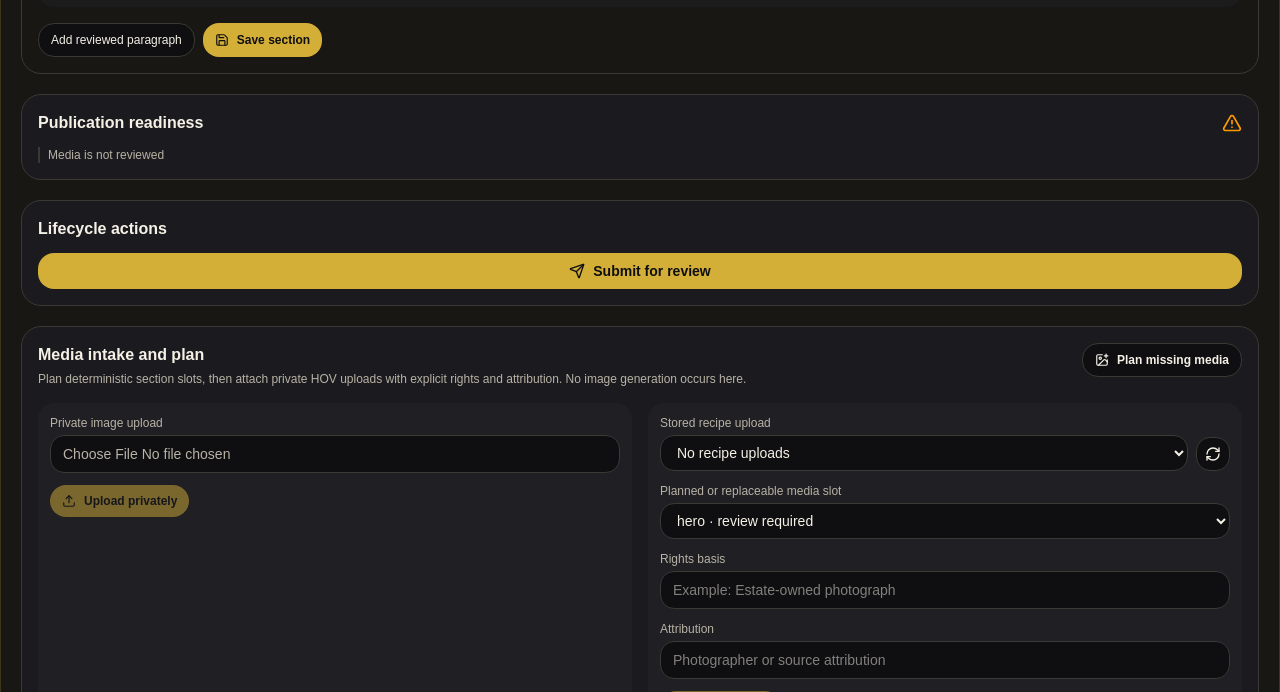
Scenario: recipe guidance UI › plans missing media slots from the admin workspace
(page scrolled)
Click the button "Plan missing media".
click(1162, 360)  # box [1082,343,1242,377]
(page scrolled)
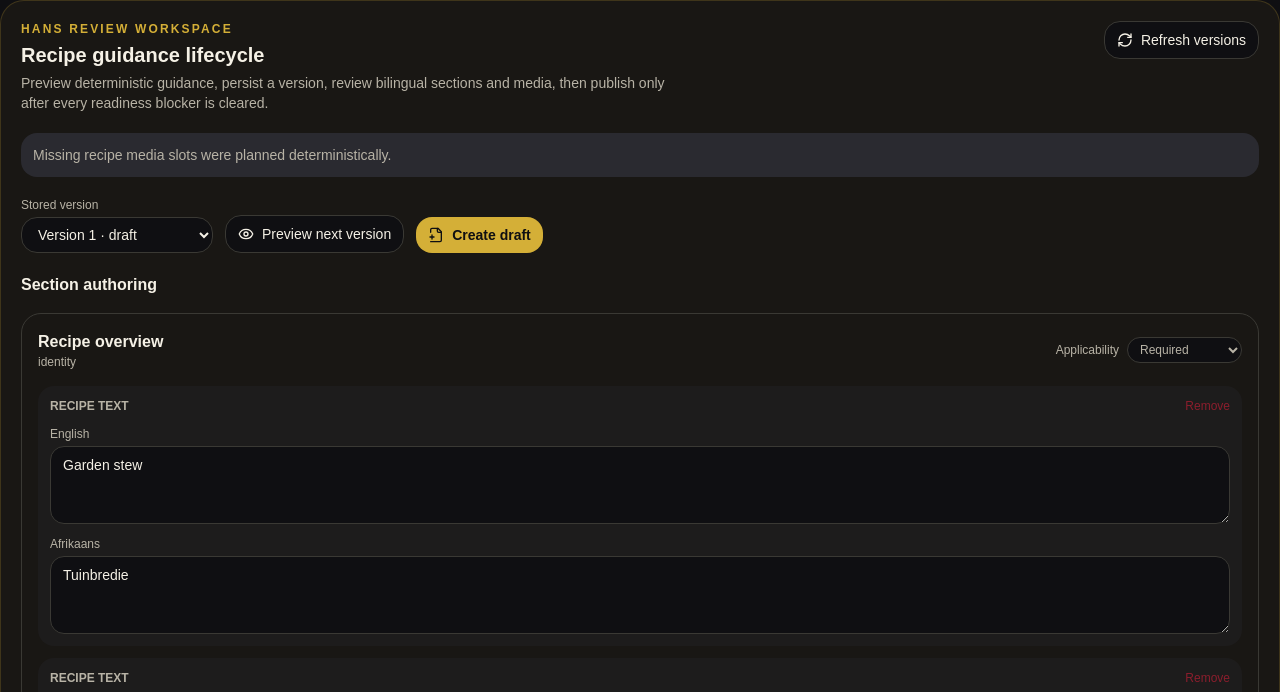
Result: the text "Missing recipe media slots were planned deterministically." is shown at [21,133,1259,177]
